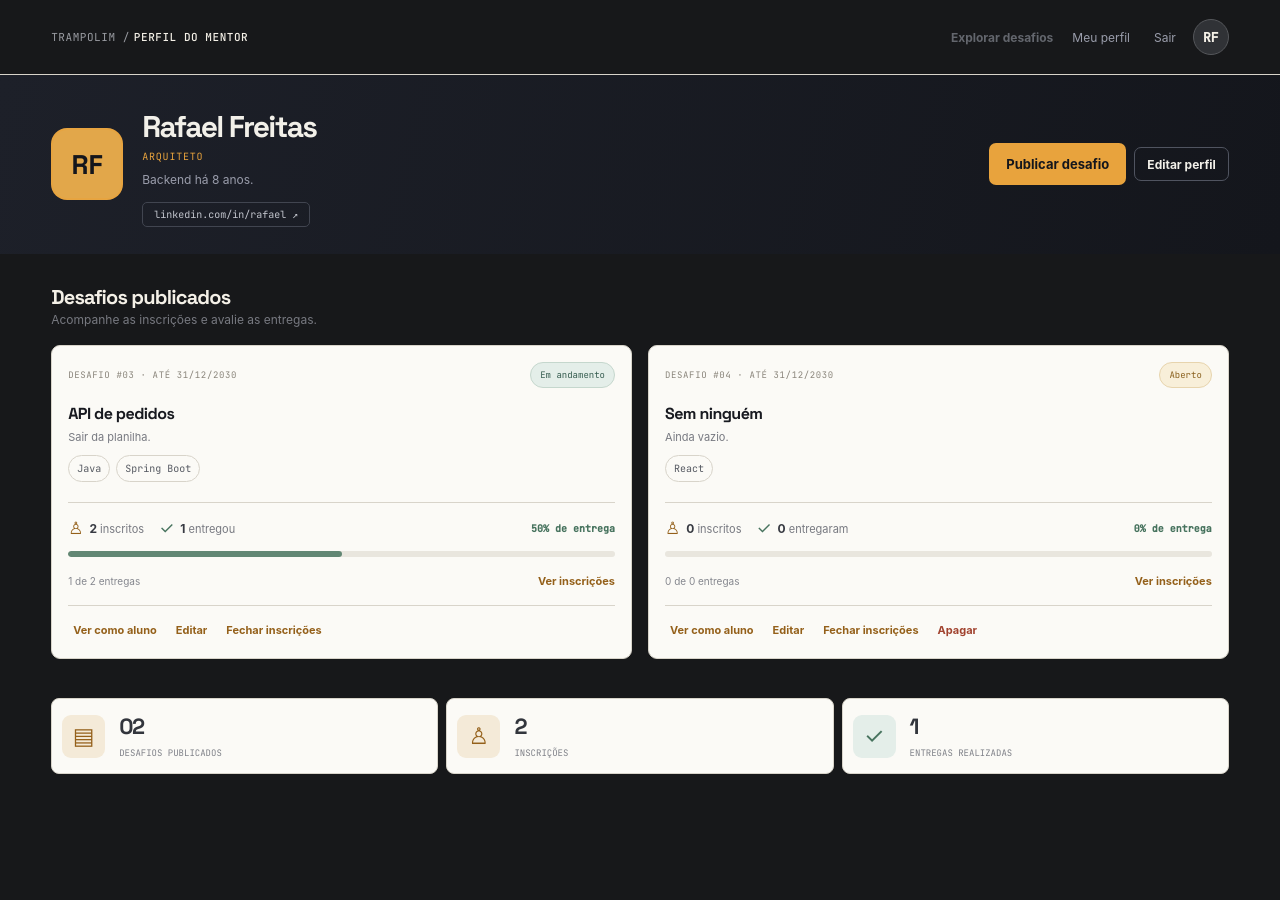
Perfil do mentor › lista as inscrições e leva para a avaliação de quem já enviou
The image size is (1280, 900).
Check: the heading "API de pedidos" is shown, box [68,403,174,424]
Click the button "Ver inscrições" below "50".
click(574, 581)  # box [533,569,615,593]
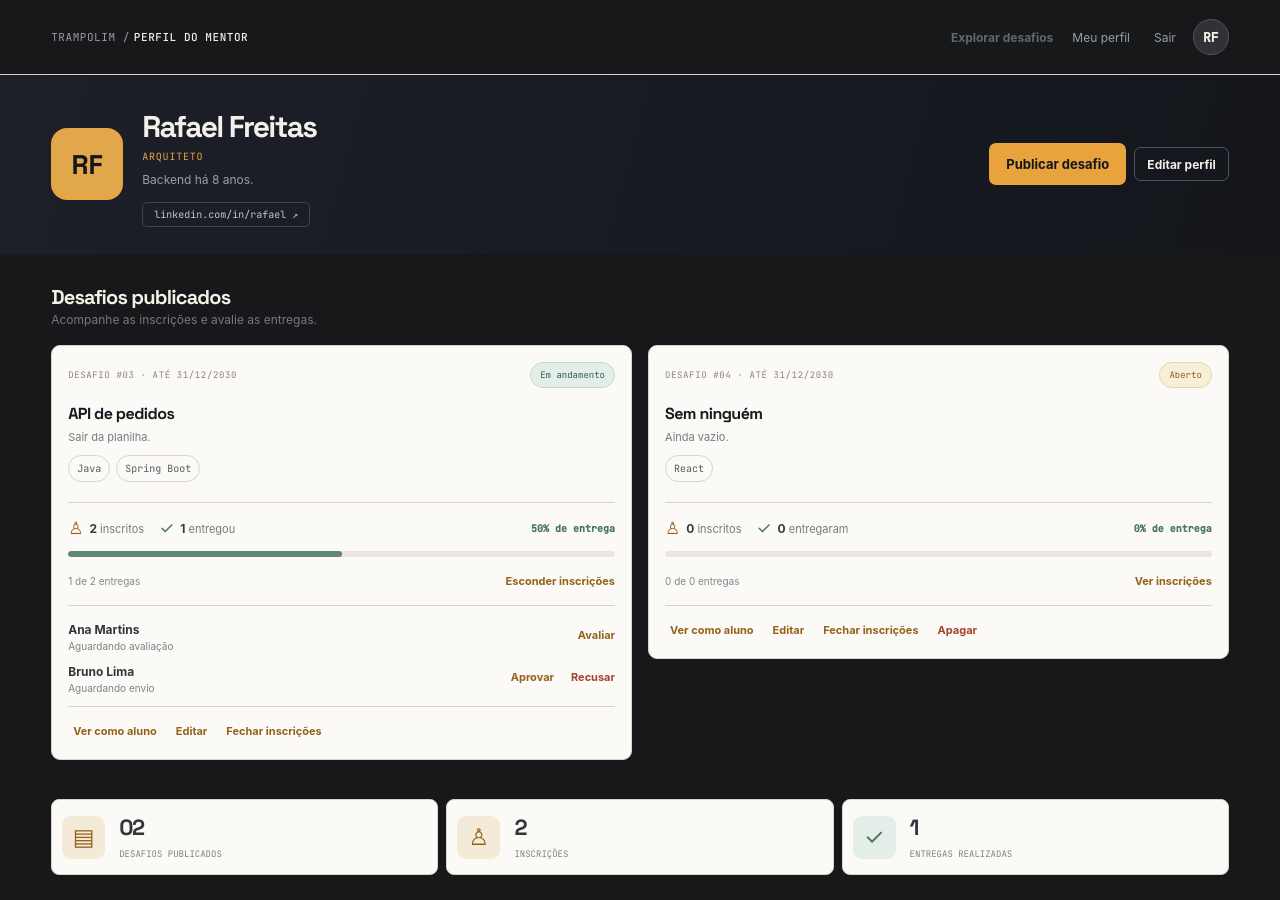
Check: the button "Ana Martins" is shown, box [68,622,140,637]
Check: the text "Aguardando envio" is shown, box [68,682,155,694]
Check: the number of buttons "Avaliar" is 1
Click the button "Avaliar".
click(594, 635)  # box [573,623,615,647]
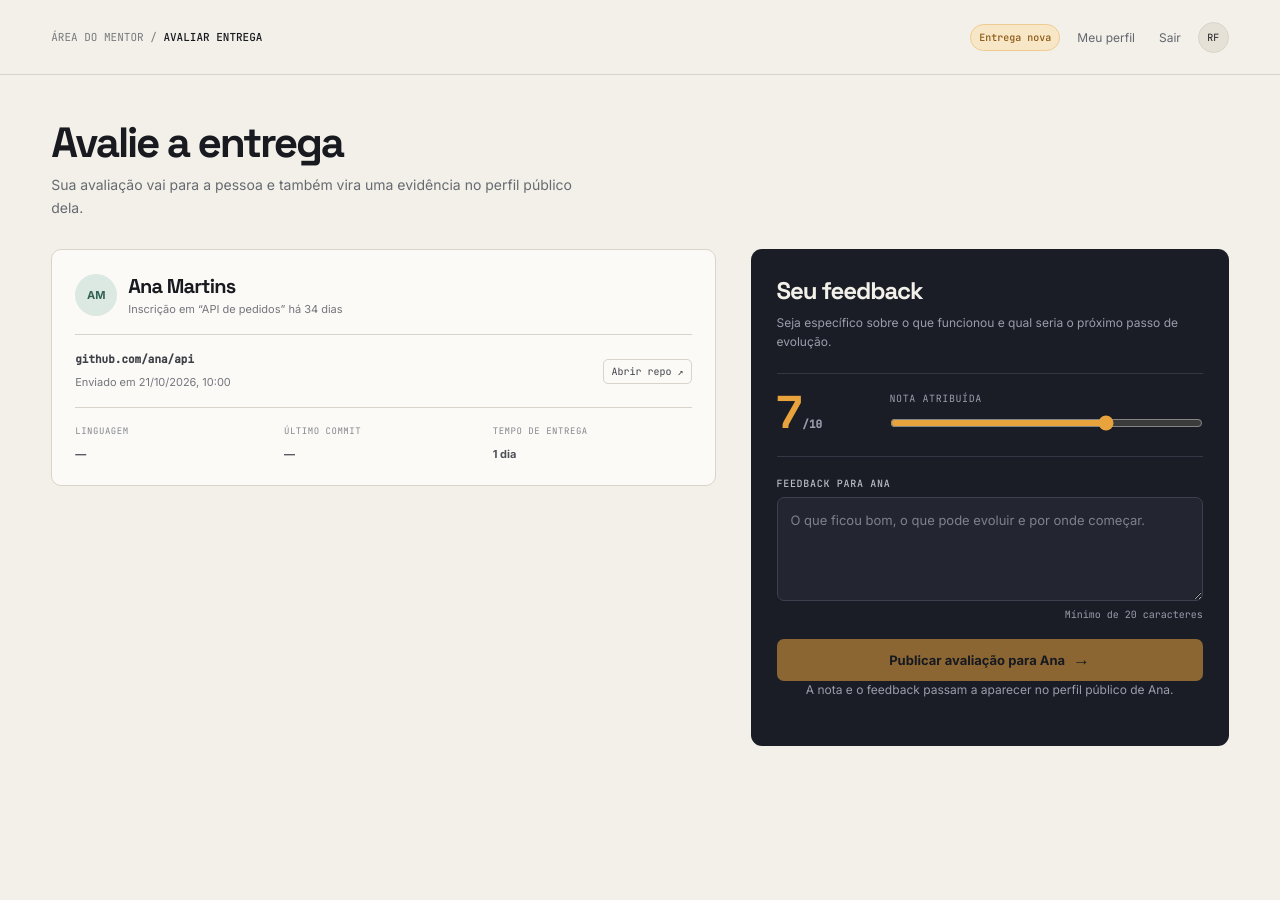
Check: the heading "Avalie a entrega" is shown, box [51,115,343,169]
